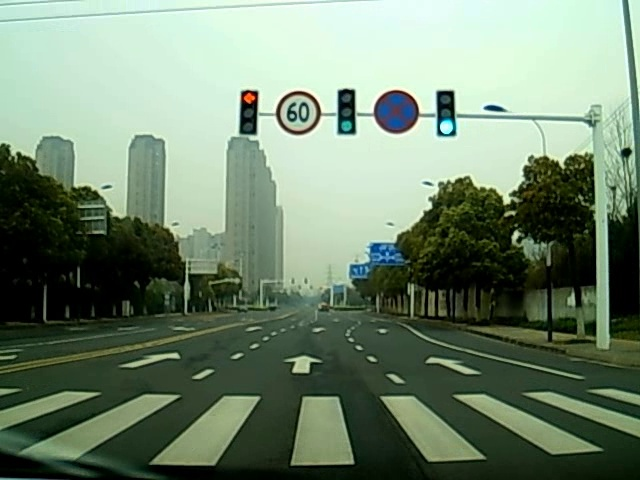Traffic_Light_go: (436, 91, 456, 137), (336, 90, 356, 134)
Traffic_Light_stop: (239, 89, 259, 135)
